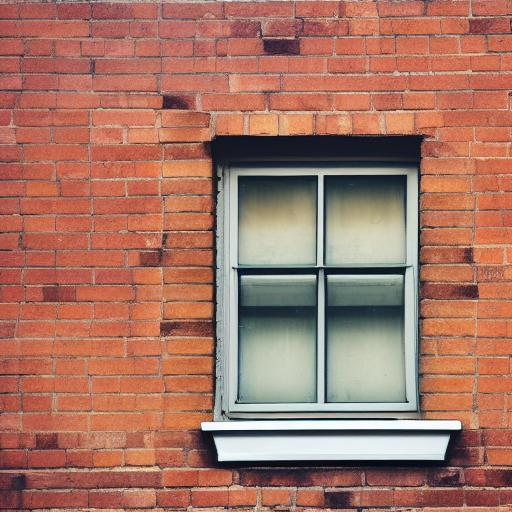Window: (196, 112, 460, 464)
